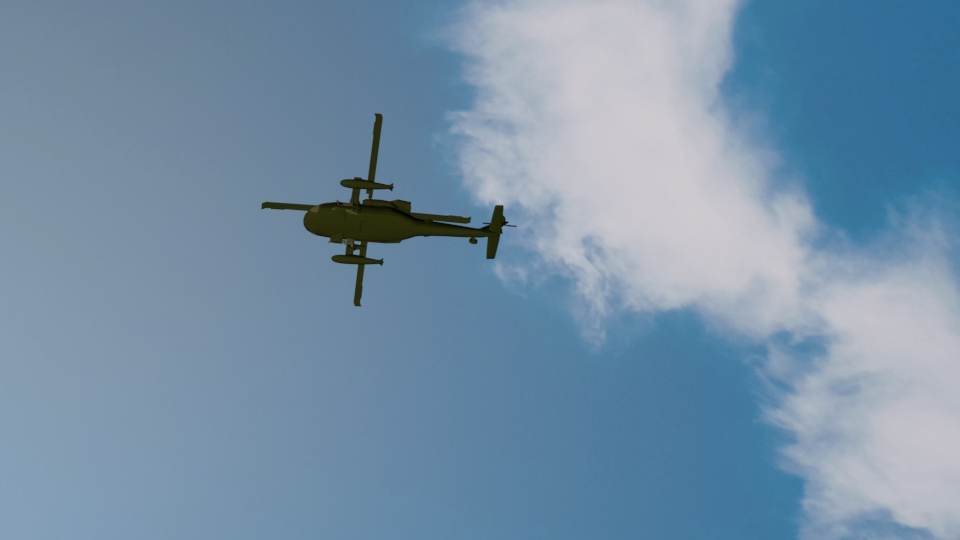heli: (258, 112, 511, 310)
